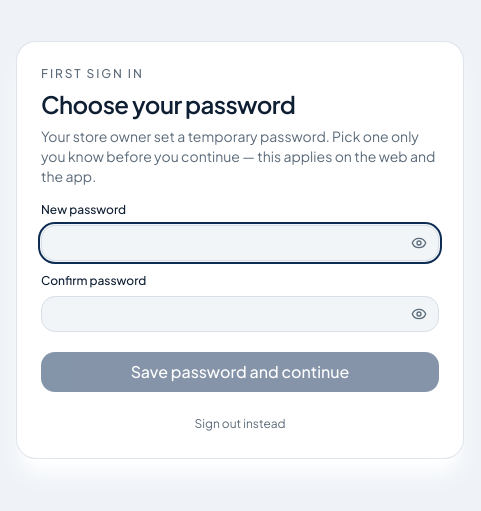
ChangePassword › rejects mismatched passwords
The width and height of the screenshot is (481, 511).
Step 1. Type "ownpass1" into the password field labelled "New password" → (240, 243), box [41,225,439,261]
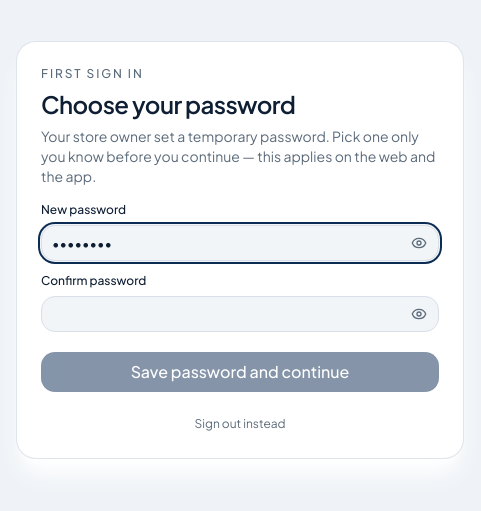
Step 2. Type "otherpass" into the password field labelled "Confirm password" → (240, 314), box [41,296,439,332]
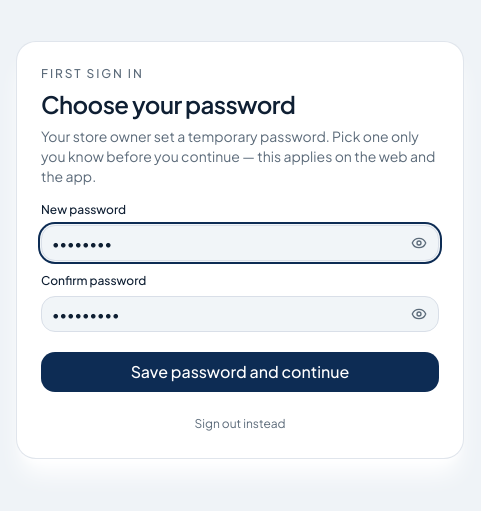
Step 3. Click the button "Save password and continue" → (240, 372), box [41,352,439,392]
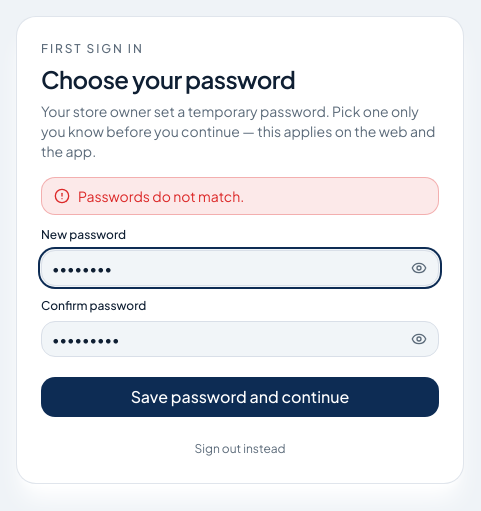
Expected: the message shows "do not match", [78,187,244,205]
